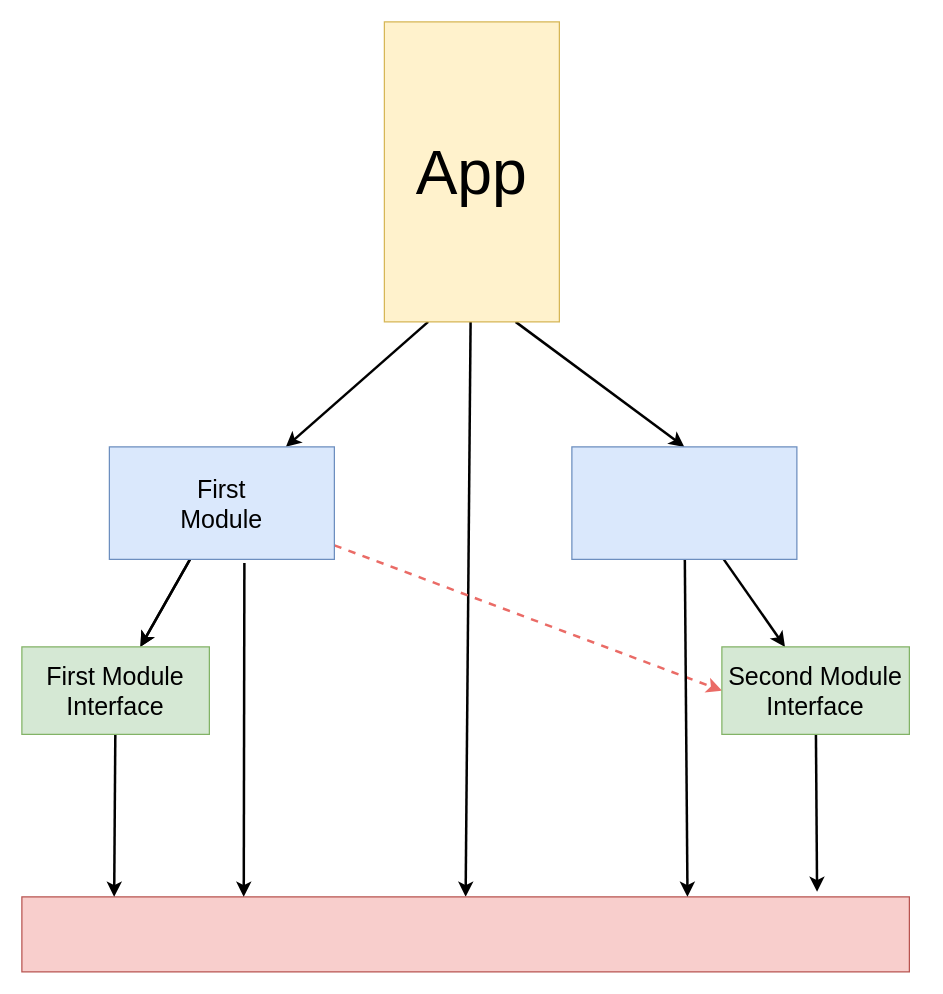
Some shapes in this 943 by 994 pixel diagram are drawn without their labels. Here are the shapes that lost their labels. From the top down, the centre of each, then its label:
At point 684,502: "Second Module".
At point 465,934: "Additions/Shared".
